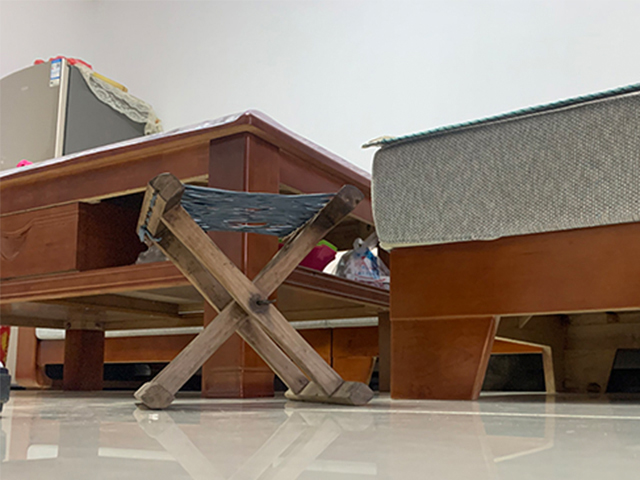sofa: (362, 83, 640, 403)
stool: (134, 171, 377, 411)
table: (1, 110, 388, 400)
